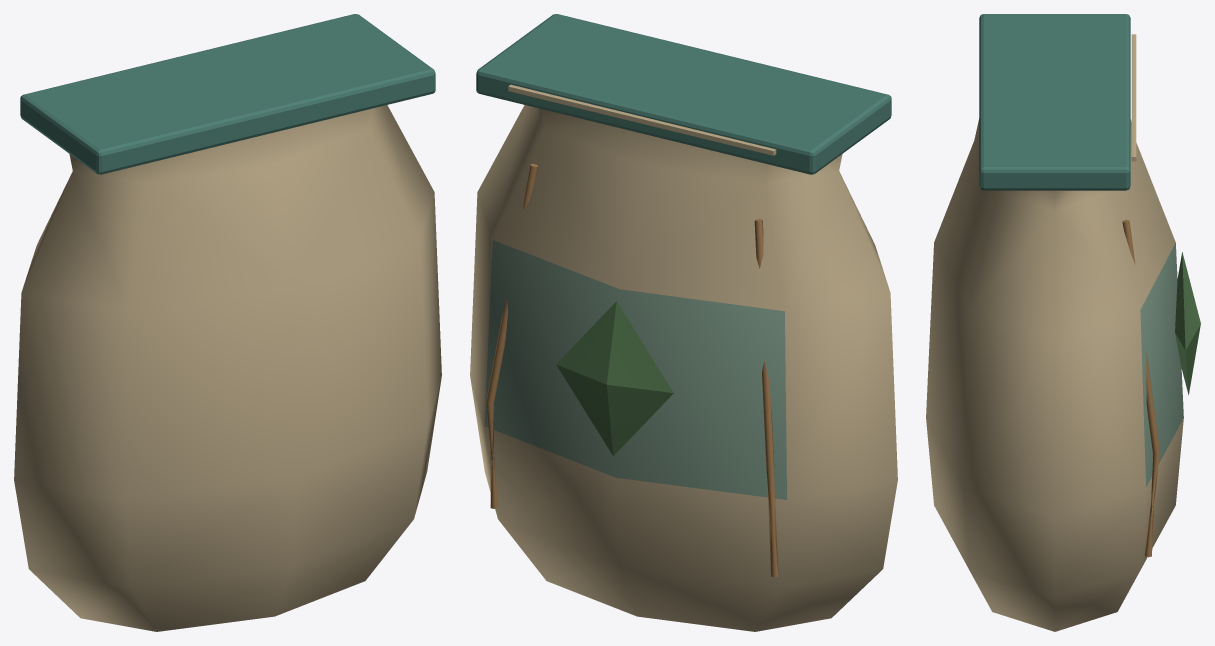
File: fertilizer.glb
The picture shows the model from 3 angles, left to right: view 1: azimuth 30°, elevation 25°; view 2: azimuth 150°, elevation 25°; view 3: azimuth 270°, elevation 25°; orthographic projection. The views are drawn at different scales.
Size of the model in its own units: 0.29 by 0.324 by 0.1706.
